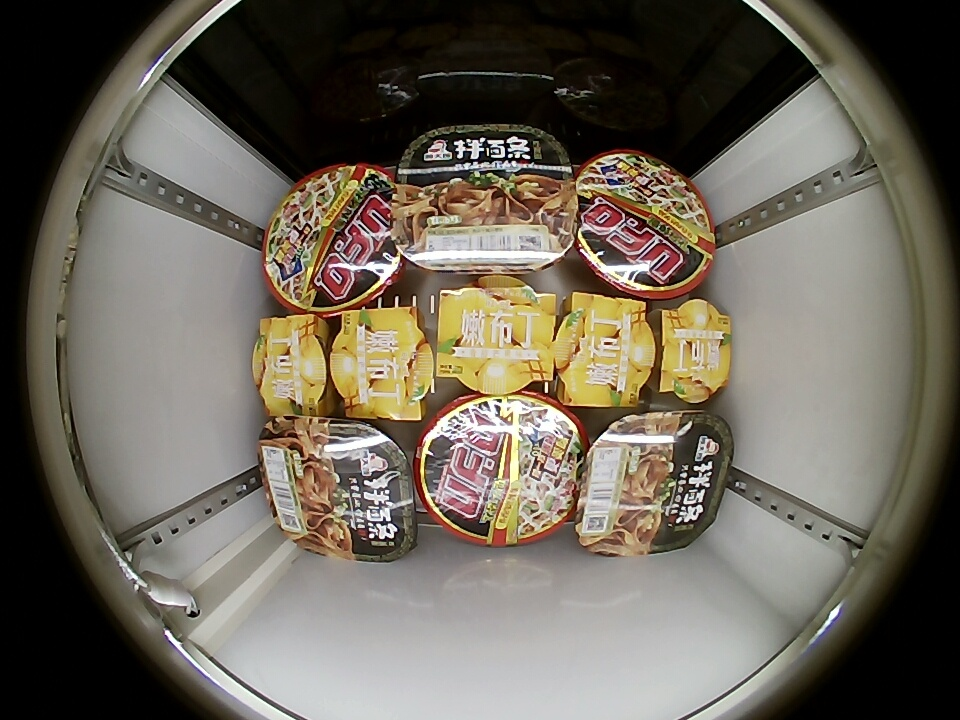buding: (436, 275, 557, 395), (330, 309, 435, 420), (554, 293, 656, 406), (252, 314, 329, 415), (659, 300, 732, 401)
gudasao: (392, 124, 576, 275), (575, 411, 735, 557), (256, 416, 416, 562)
ufo2: (413, 391, 590, 547), (263, 162, 408, 316), (573, 148, 715, 299)
